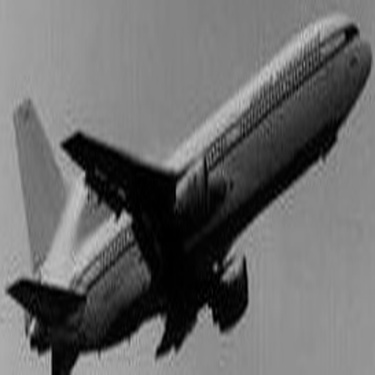airplane: (7, 23, 357, 354)
